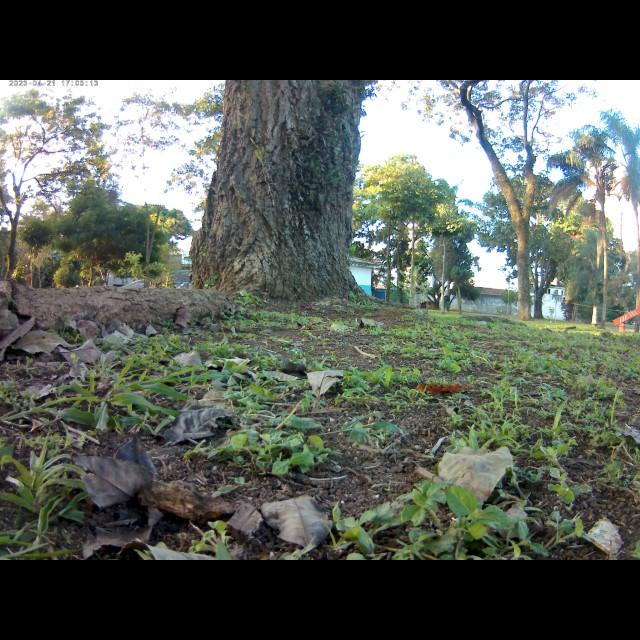arvore: (181, 81, 379, 329)
